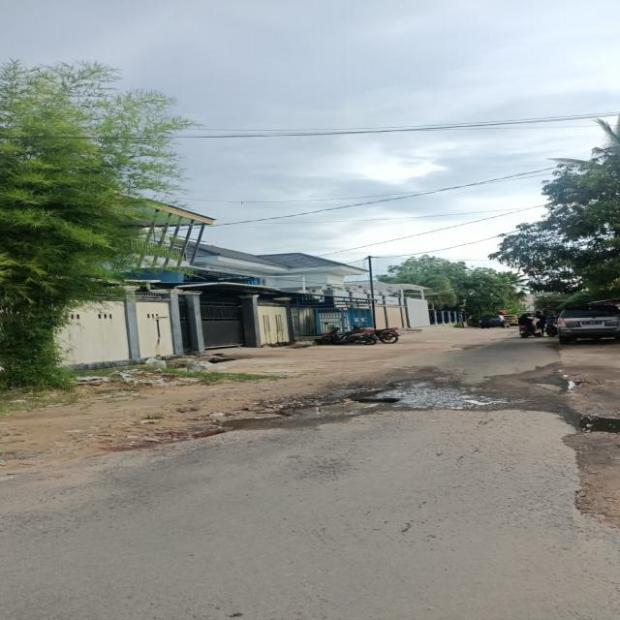lubang: (93, 378, 306, 450), (326, 379, 516, 413)
